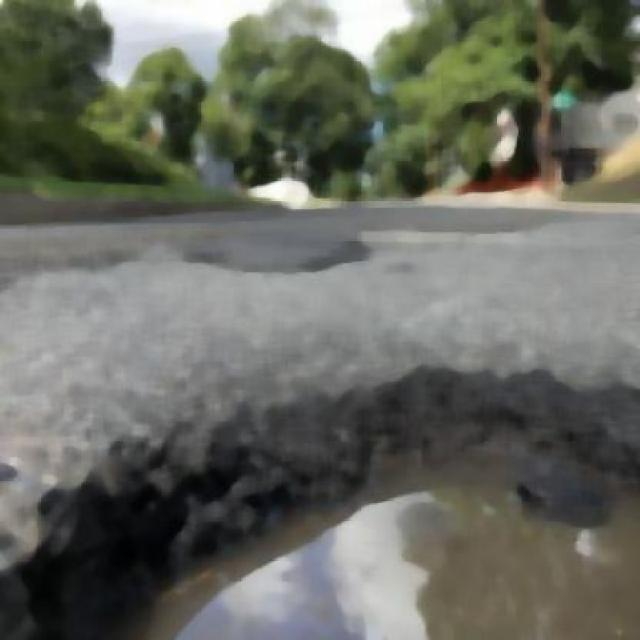Pothole: (40, 436, 638, 638)
